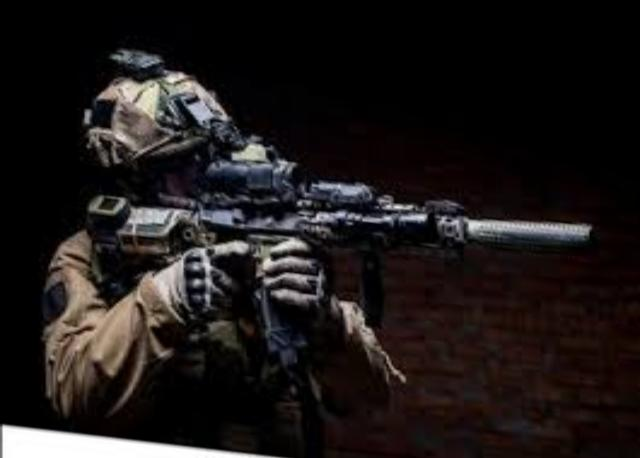other: (49, 44, 345, 437)
